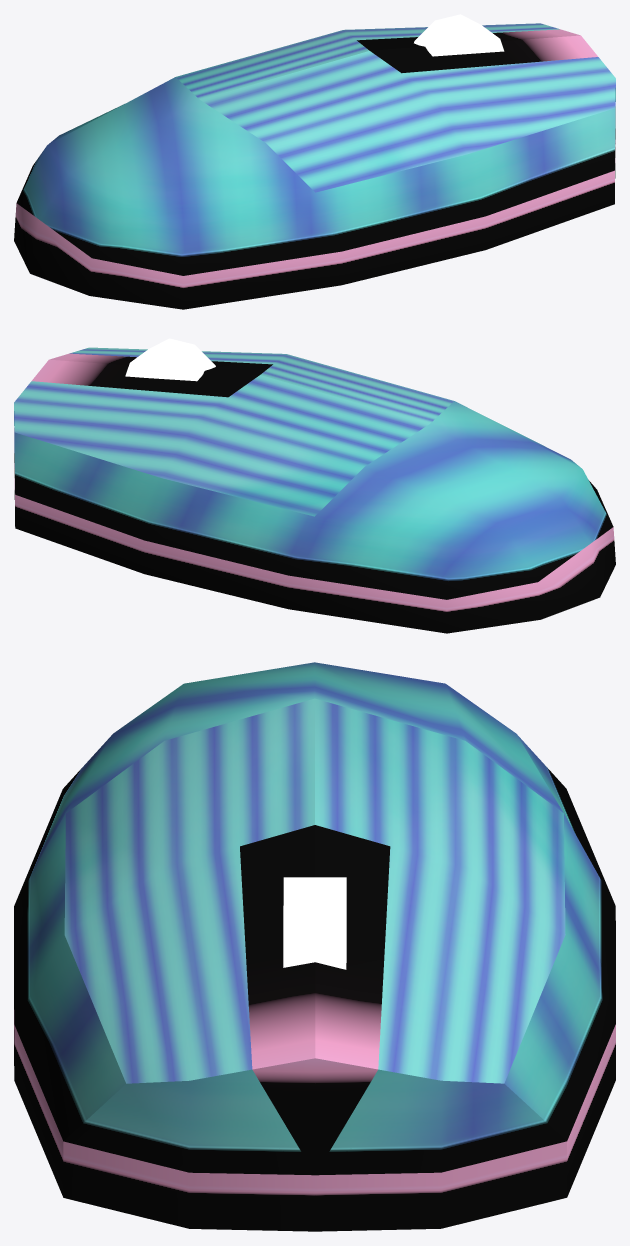
Rendered from Mouse_Retro.glb.
3 renders of one model, top to bottom at view 1: azimuth 30°, elevation 25°; view 2: azimuth 150°, elevation 25°; view 3: azimuth 270°, elevation 25°, orthographic. The views are drawn at different scales.
Parts seen in each view (by area): view 1: Mouse_Retro; view 2: Mouse_Retro; view 3: Mouse_Retro.
Part boxes in pixels (box(x1,y1,x2,y2)): Mouse_Retro: box(14, 14, 615, 309); Mouse_Retro: box(14, 338, 615, 633); Mouse_Retro: box(14, 662, 615, 1231).
Size of the model in its own units: 1.21 by 0.3043 by 0.6841.
2 materials, 2 textured.
